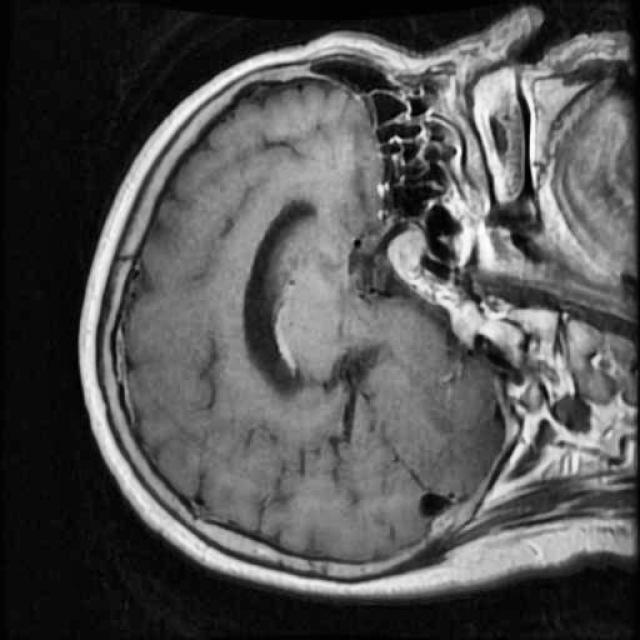Tumor: (378, 219, 438, 295)
